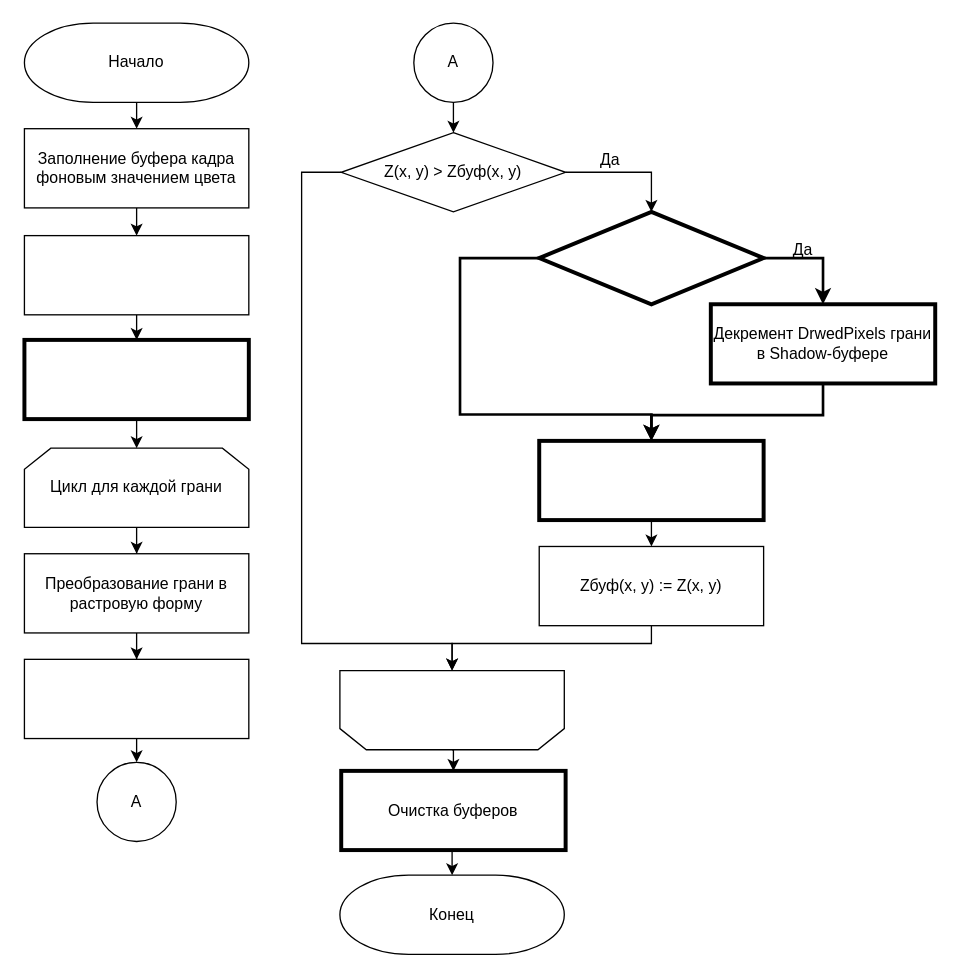
Image size: 960x978. Some labels were removed from this diagram. Here are the shapes that lost their labels. From the top down, the box of each, then its label:
(23, 234, 249, 315): Заполнение Z-буфера минимальным значением Z
(537, 209, 765, 306): Пиксель (x, y) есть в Shadow-буфере
(22, 337, 250, 420): Заполнение Shadow-буфера минимальным значением Shadow
(537, 438, 765, 521): Инкремент DrwedPixels и AllPixels текущей грани
(23, 658, 249, 739): Вычисление для каждого пикселя (x, y) его глубины Z(x, y)
(339, 669, 564, 750): Конец цикла для каждой грани
